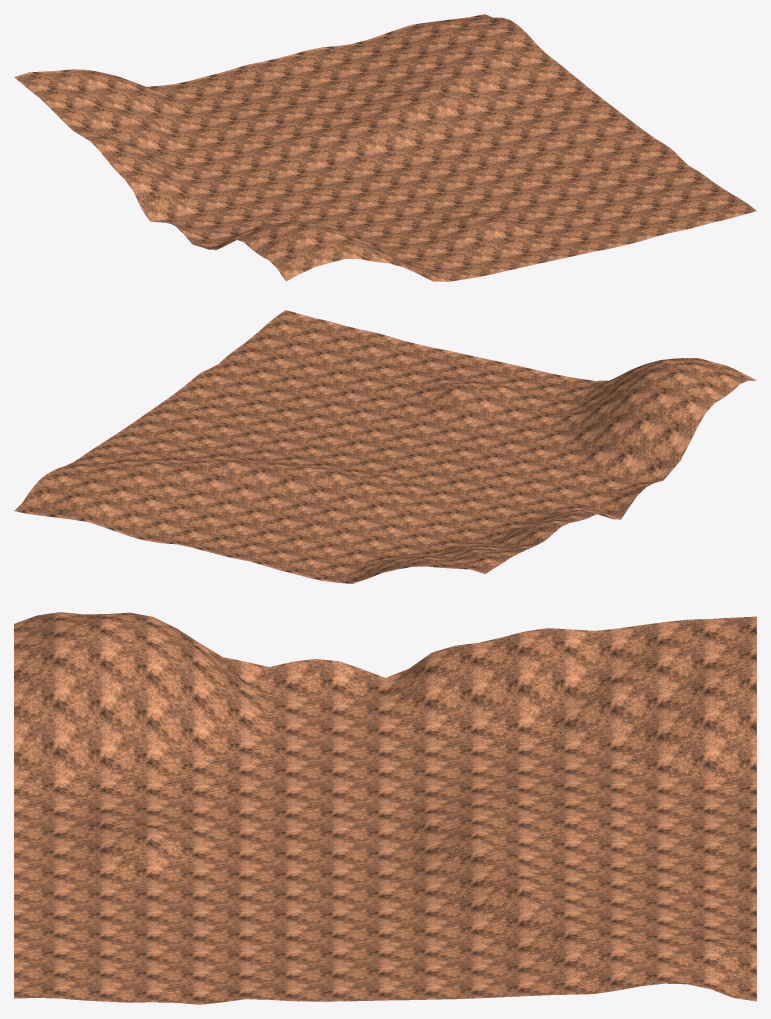
The model's file is terrain_02_06.dae.
3 renders of one model, top to bottom at view 1: azimuth 30°, elevation 25°; view 2: azimuth 150°, elevation 25°; view 3: azimuth 270°, elevation 25°, orthographic. The views are drawn at different scales.
Parts seen in each view (by area): view 1: terrain_02_06-node; view 2: terrain_02_06-node; view 3: terrain_02_06-node.
Part boxes in pixels (<box>): terrain_02_06-node: <box>14,14,756,281</box>; terrain_02_06-node: <box>14,310,756,583</box>; terrain_02_06-node: <box>14,612,756,1004</box>.
Bounding box in the file's own units: 128 × 128 × 18.08.
1 material, 1 textured.
